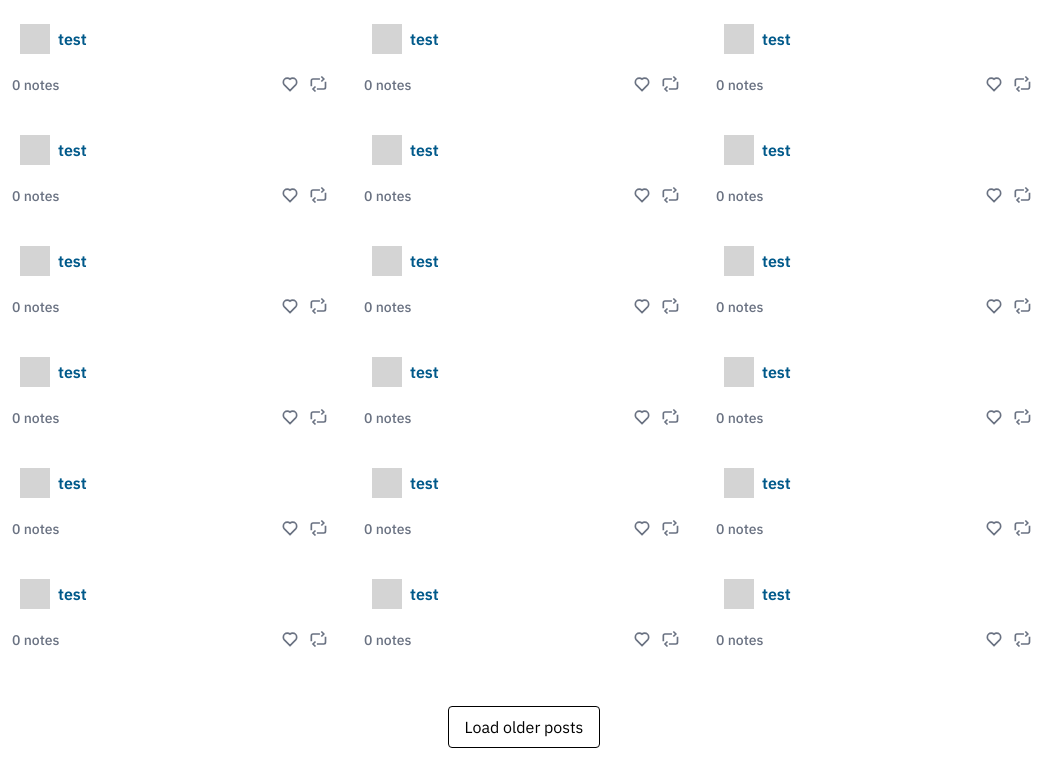
Test: holds a feed load until the real notification check finishes
The width and height of the screenshot is (1048, 768).
Click the button "Load older posts". click: click(524, 727)
box: [448, 706, 600, 748]
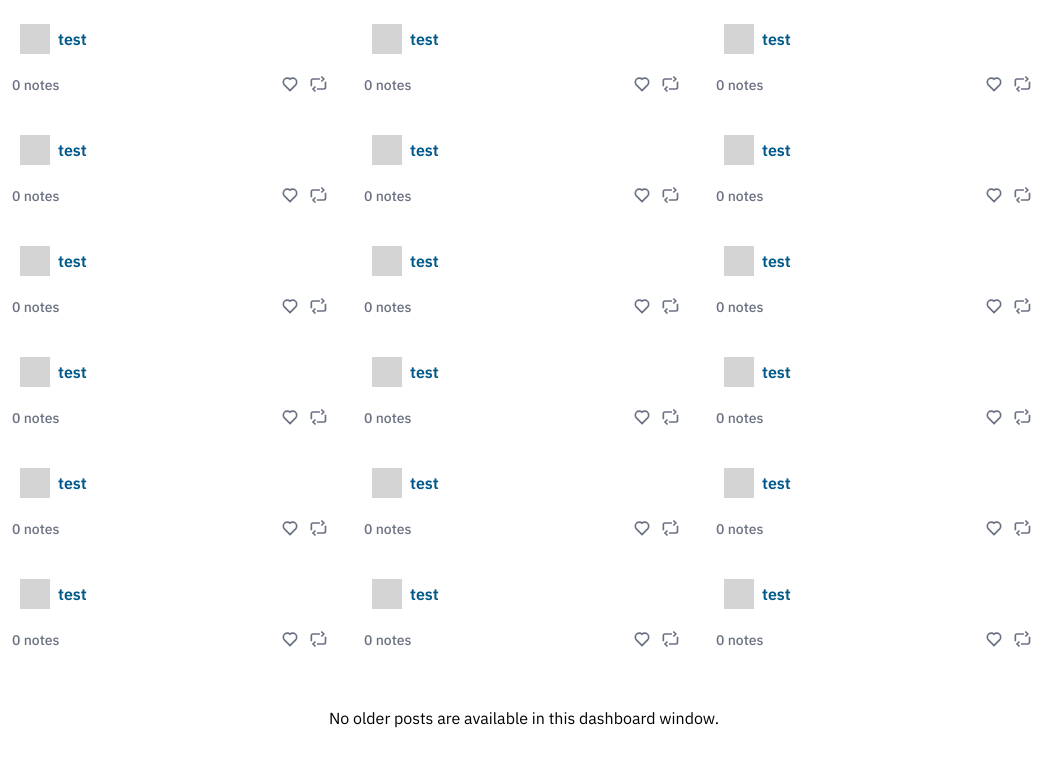
Check: the text "No older posts are available in this dashboard window." is shown, box [329, 708, 719, 728]
